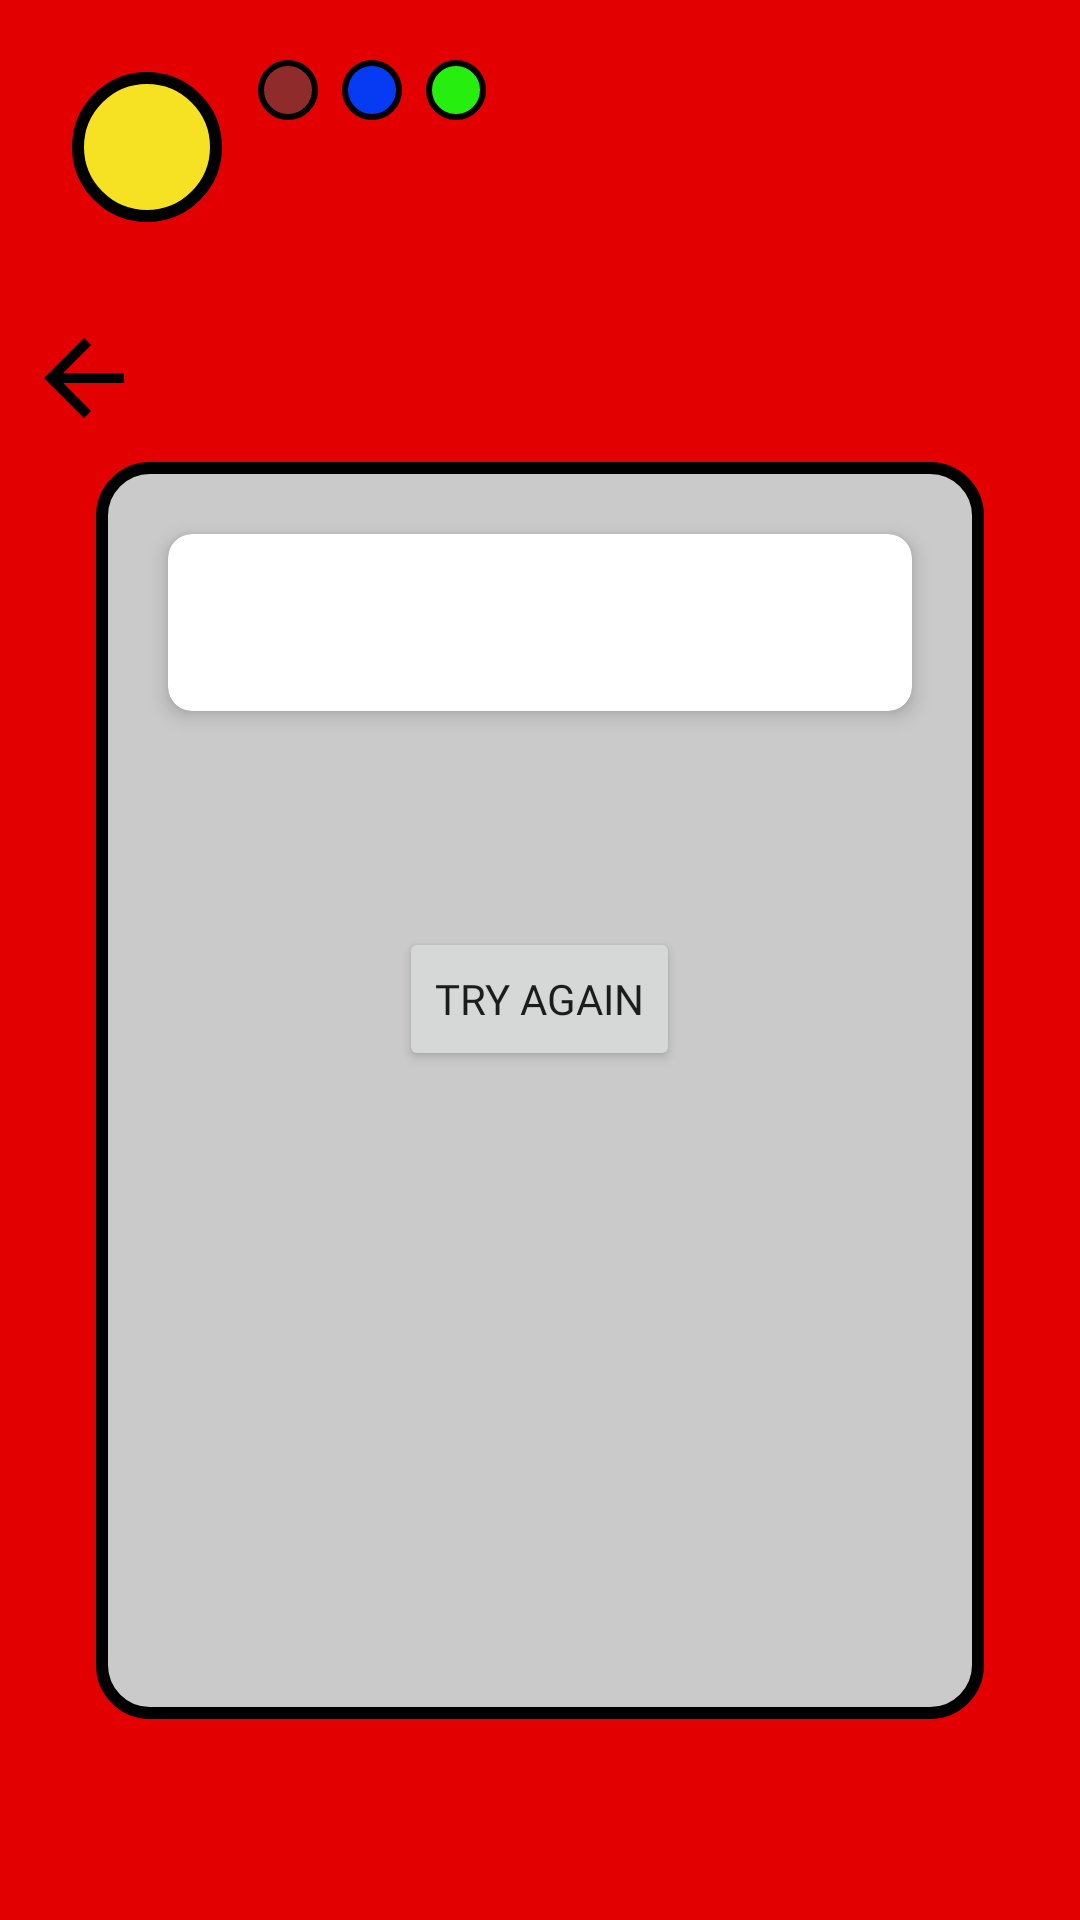

Screen size 1080 × 1920. Icon name, then its center in pixels as point (x, y):
back arrow: point (84, 378)
